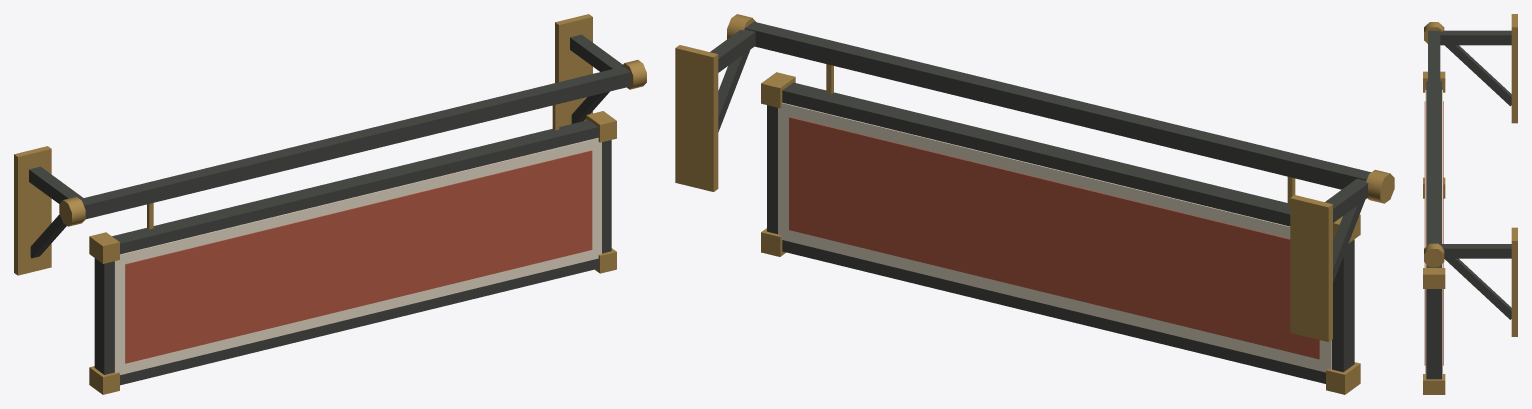
The model's file is sign_wall_3.glb.
The picture shows the model from 3 angles, left to right: view 1: azimuth 30°, elevation 25°; view 2: azimuth 150°, elevation 25°; view 3: azimuth 270°, elevation 25°; orthographic projection. The views are drawn at different scales.
Visible parts, largest first — view 1: sign_wall_3; view 2: sign_wall_3; view 3: sign_wall_3.
Part boxes in pixels (x1,y1,x2,y2): sign_wall_3: (14,14,646,394); sign_wall_3: (675,14,1394,394); sign_wall_3: (1423,14,1517,394).
Bounding box in the file's own units: 3.4 × 1.16 × 0.6.
